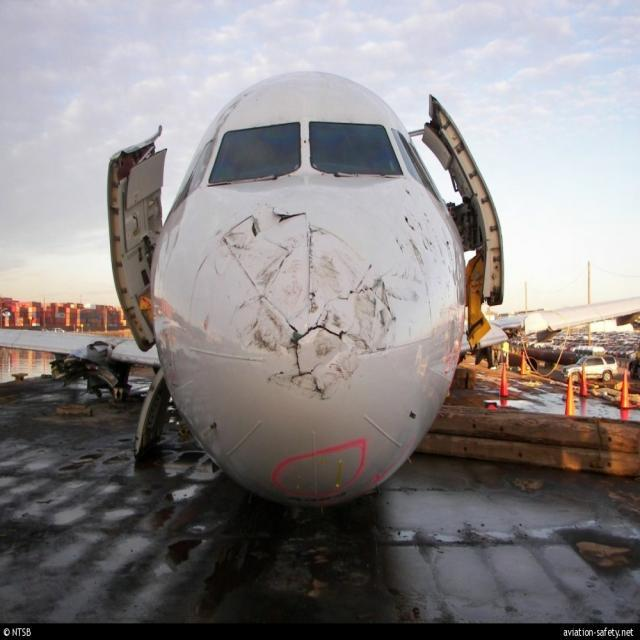Crack: (255, 257, 383, 402)
